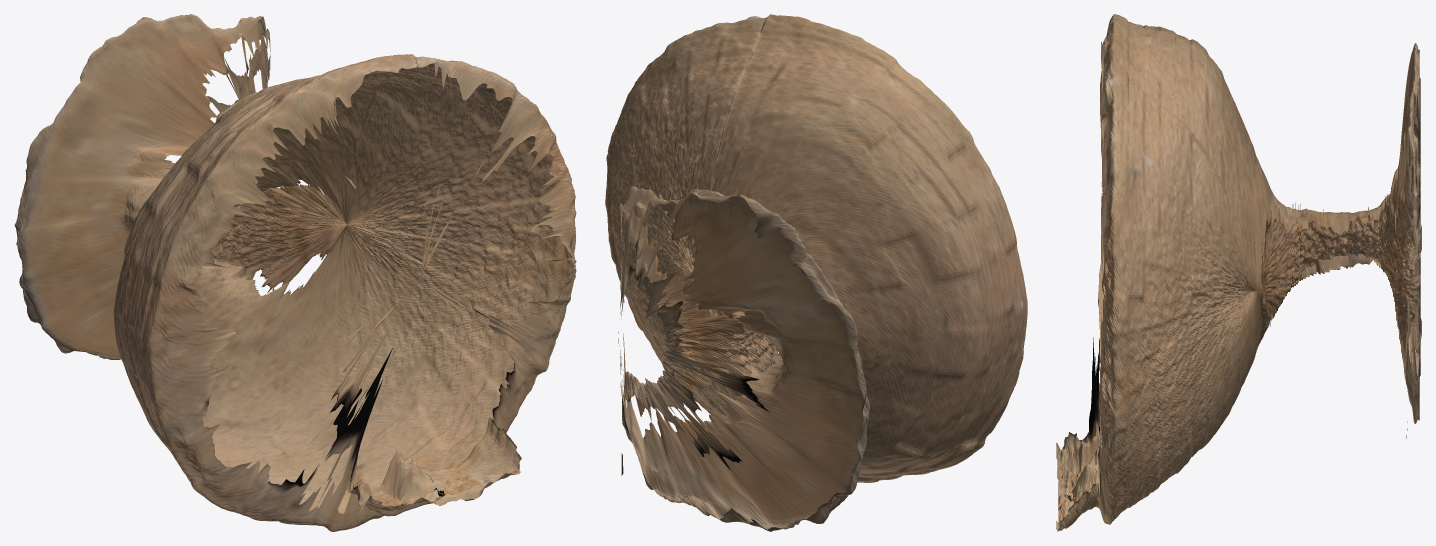
3 views of the same model, side by side, from view 1: azimuth 30°, elevation 25°; view 2: azimuth 150°, elevation 25°; view 3: azimuth 270°, elevation 25° (orthographic). The views are drawn at different scales.
Visible parts, largest first — view 1: geometry_0; view 2: geometry_0; view 3: geometry_0.
Boxes of the visible parts, x1,y1,x2,y2 form: geometry_0: (14, 14, 576, 531); geometry_0: (605, 14, 1027, 531); geometry_0: (1056, 14, 1421, 531).
Size of the model in its own units: 1.5 by 1.54 by 1.08.
1 material, 1 textured.
